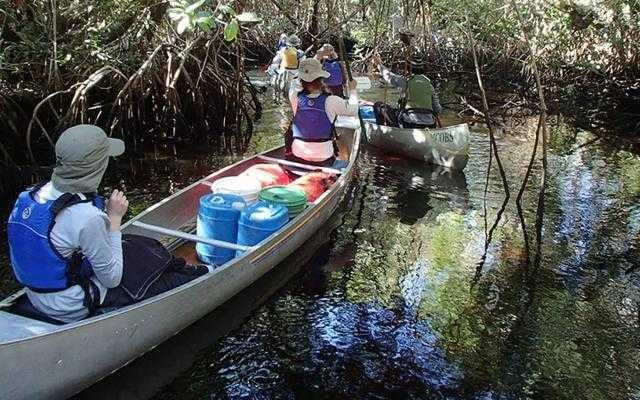kayak: (3, 80, 362, 395), (358, 101, 471, 171)
